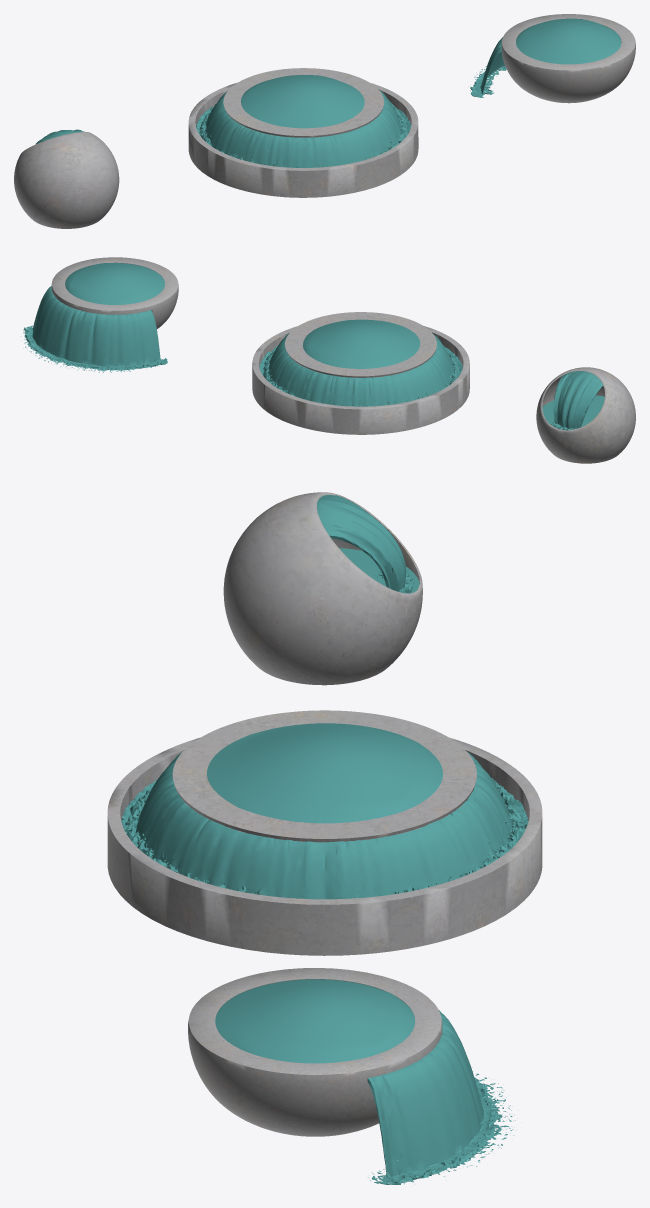
Rendered from waterfall-fountains.mobile.glb.
The picture shows the model from 3 angles, top to bottom: view 1: azimuth 30°, elevation 25°; view 2: azimuth 150°, elevation 25°; view 3: azimuth 270°, elevation 25°; orthographic projection. The views are drawn at different scales.
Parts seen in each view (by area): view 1: waterfall-fountains | Weathered concrete.001, waterfall-fountains | Pool water.002, waterfall-fountains | Pool water, waterfall-fountains | Pale stone basin, waterfall-fountains | Weathered concrete; view 2: waterfall-fountains | Pool water, waterfall-fountains | Pool water.002, waterfall-fountains | Pale stone basin, waterfall-fountains | Weathered concrete.001, waterfall-fountains | Weathered concrete, waterfall-fountains | Pool water.001; view 3: waterfall-fountains | Pool water, waterfall-fountains | Weathered concrete.001, waterfall-fountains | Pool water.002, waterfall-fountains | Pale stone basin, waterfall-fountains | Weathered concrete.
Part boxes in pixels (x1,y1,x2,y2): waterfall-fountains | Weathered concrete.001: [223, 14, 635, 137]; waterfall-fountains | Pool water.002: [241, 18, 621, 128]; waterfall-fountains | Pool water: [36, 37, 506, 167]; waterfall-fountains | Pale stone basin: [188, 82, 418, 197]; waterfall-fountains | Weathered concrete: [14, 132, 119, 228]; waterfall-fountains | Pool water: [23, 286, 603, 430]; waterfall-fountains | Pool water.002: [65, 263, 420, 368]; waterfall-fountains | Pale stone basin: [252, 326, 469, 434]; waterfall-fountains | Weathered concrete.001: [51, 257, 436, 377]; waterfall-fountains | Weathered concrete: [536, 367, 635, 463]; waterfall-fountains | Pool water.001: [542, 395, 604, 427]; waterfall-fountains | Pool water: [121, 495, 528, 1184]; waterfall-fountains | Weathered concrete.001: [172, 710, 476, 1136]; waterfall-fountains | Pool water.002: [206, 723, 443, 1063]; waterfall-fountains | Pale stone basin: [107, 737, 542, 955]; waterfall-fountains | Weathered concrete: [223, 492, 422, 685].
Size of the model in its own units: 3.65 by 0.4485 by 1.15.
3 materials, 2 textured.
